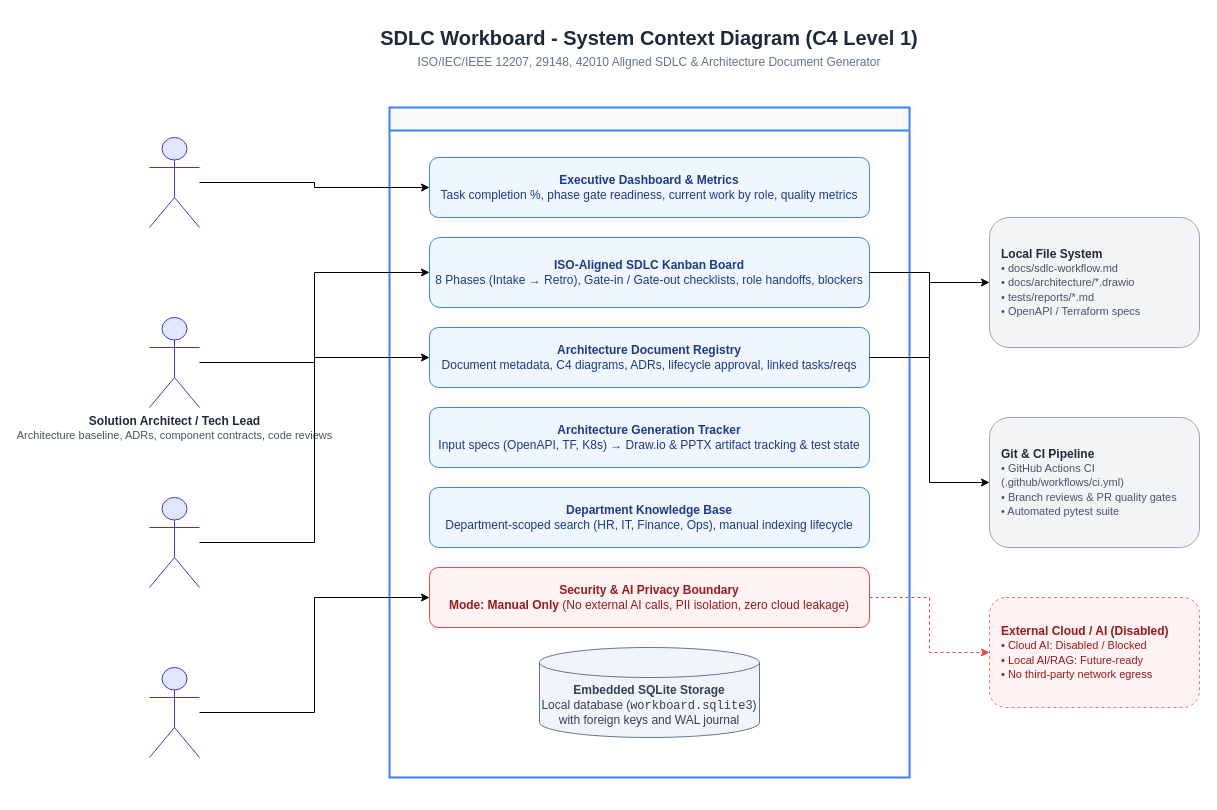
The diagram is 1217 pixels wide and 810 high, and some of its shapes have lost their labels. Here are the shapes that lost their labels. From the top down, the box of each, then its label:
(148, 136, 200, 228): Product Owner / BA Requirements intake, user stories, BRD, and UAT sign-off
(388, 106, 910, 778): SDLC Workboard System (Local MVP) Loopback binding: 127.0.0.1
(148, 496, 200, 588): Developer / QA Engineer Implementation, unit/E2E tests, gate evidence
(148, 666, 200, 758): Security & DevOps Engineer Threat models, secret scan, CI/CD, releases
